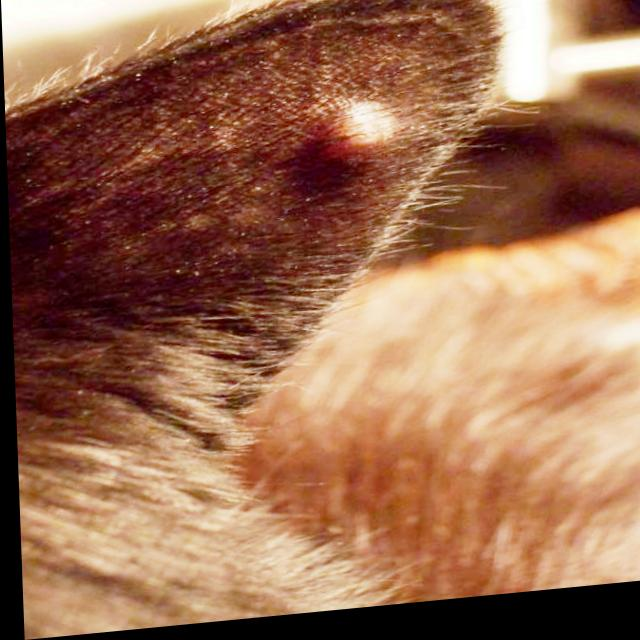lump_and_bump: (341, 102, 392, 145)
